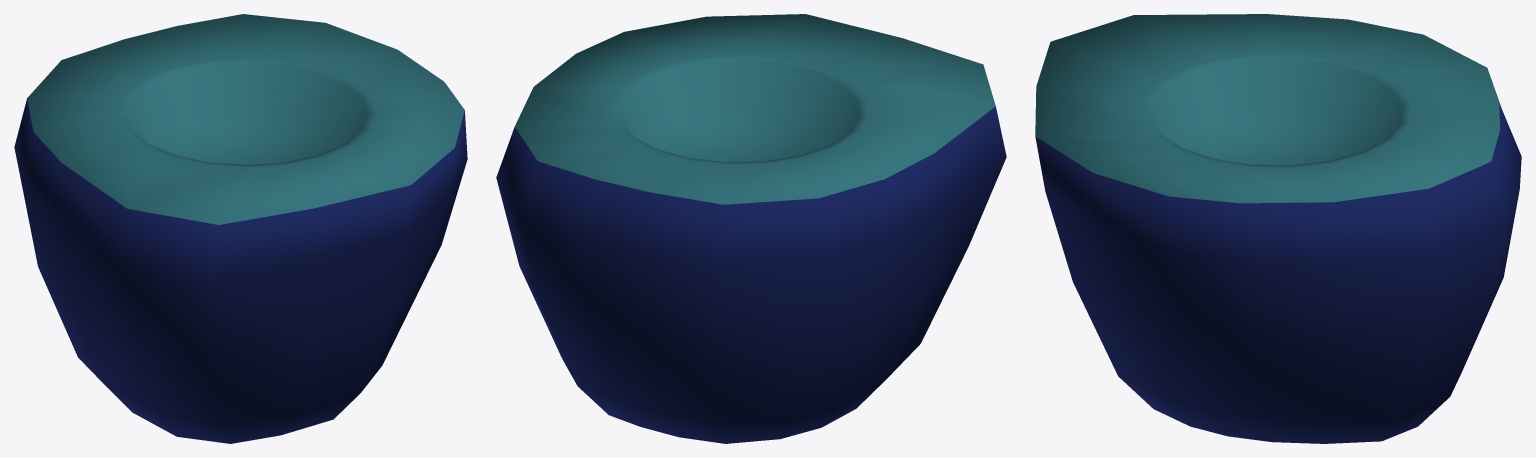
Rendered from Land_07_low.fbx.
The picture shows the model from 3 angles, left to right: view 1: azimuth 30°, elevation 25°; view 2: azimuth 150°, elevation 25°; view 3: azimuth 270°, elevation 25°; orthographic projection. The views are drawn at different scales.
Visible parts, largest first — view 1: Land_7_low; view 2: Land_7_low; view 3: Land_7_low.
Boxes of the visible parts, x1,y1,x2,y2 form: Land_7_low: [14, 14, 467, 443]; Land_7_low: [496, 14, 1006, 443]; Land_7_low: [1035, 14, 1521, 443].
Bounding box in the file's own units: 1287 × 912 × 1342.
